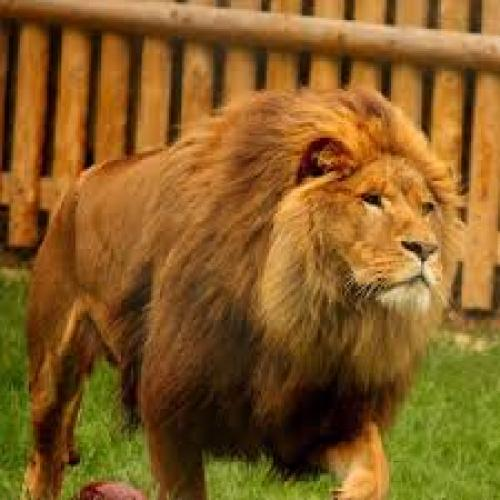lion-endangered: (26, 88, 465, 500)
